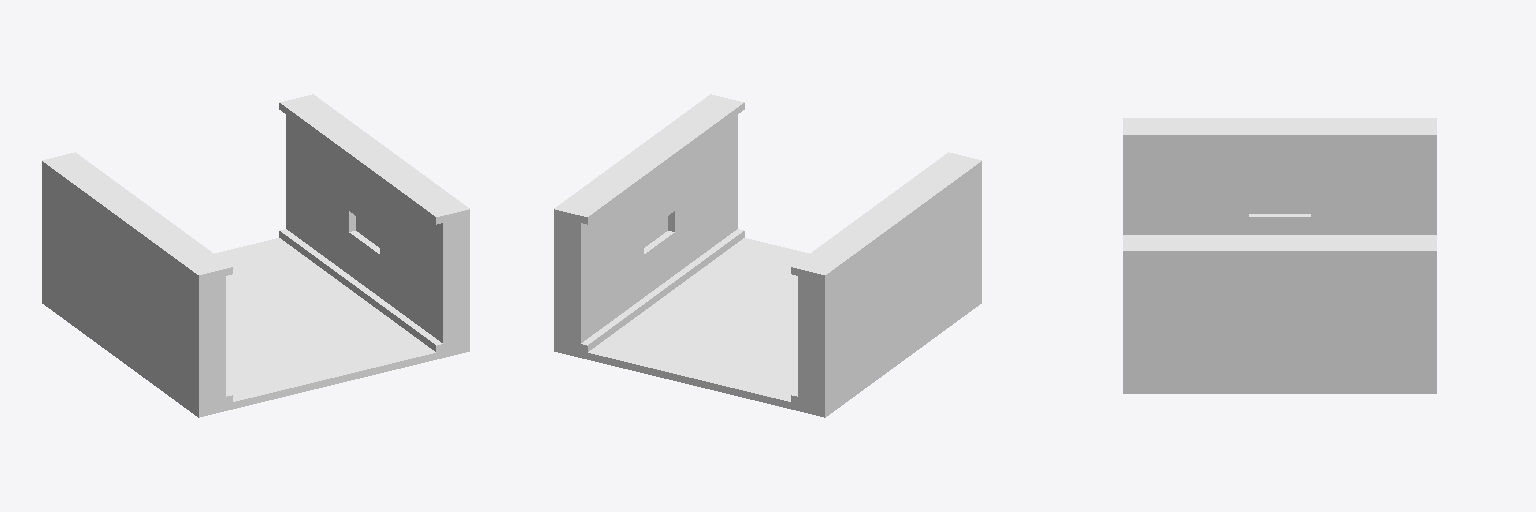
Rendered from interior_concrete_lighted_40x40x20-3.obj.
The picture shows the model from 3 angles: view 1: azimuth 30°, elevation 25°; view 2: azimuth 150°, elevation 25°; view 3: azimuth 270°, elevation 25°; orthographic projection.
Visible parts, largest first — view 1: object 1; view 2: object 1; view 3: object 1.
Part boxes in pixels (x1,y1,x2,y2): object 1: (42, 94, 469, 417); object 1: (554, 94, 981, 417); object 1: (1123, 118, 1436, 393).
Bounding box in the file's own units: 4 × 2 × 4.